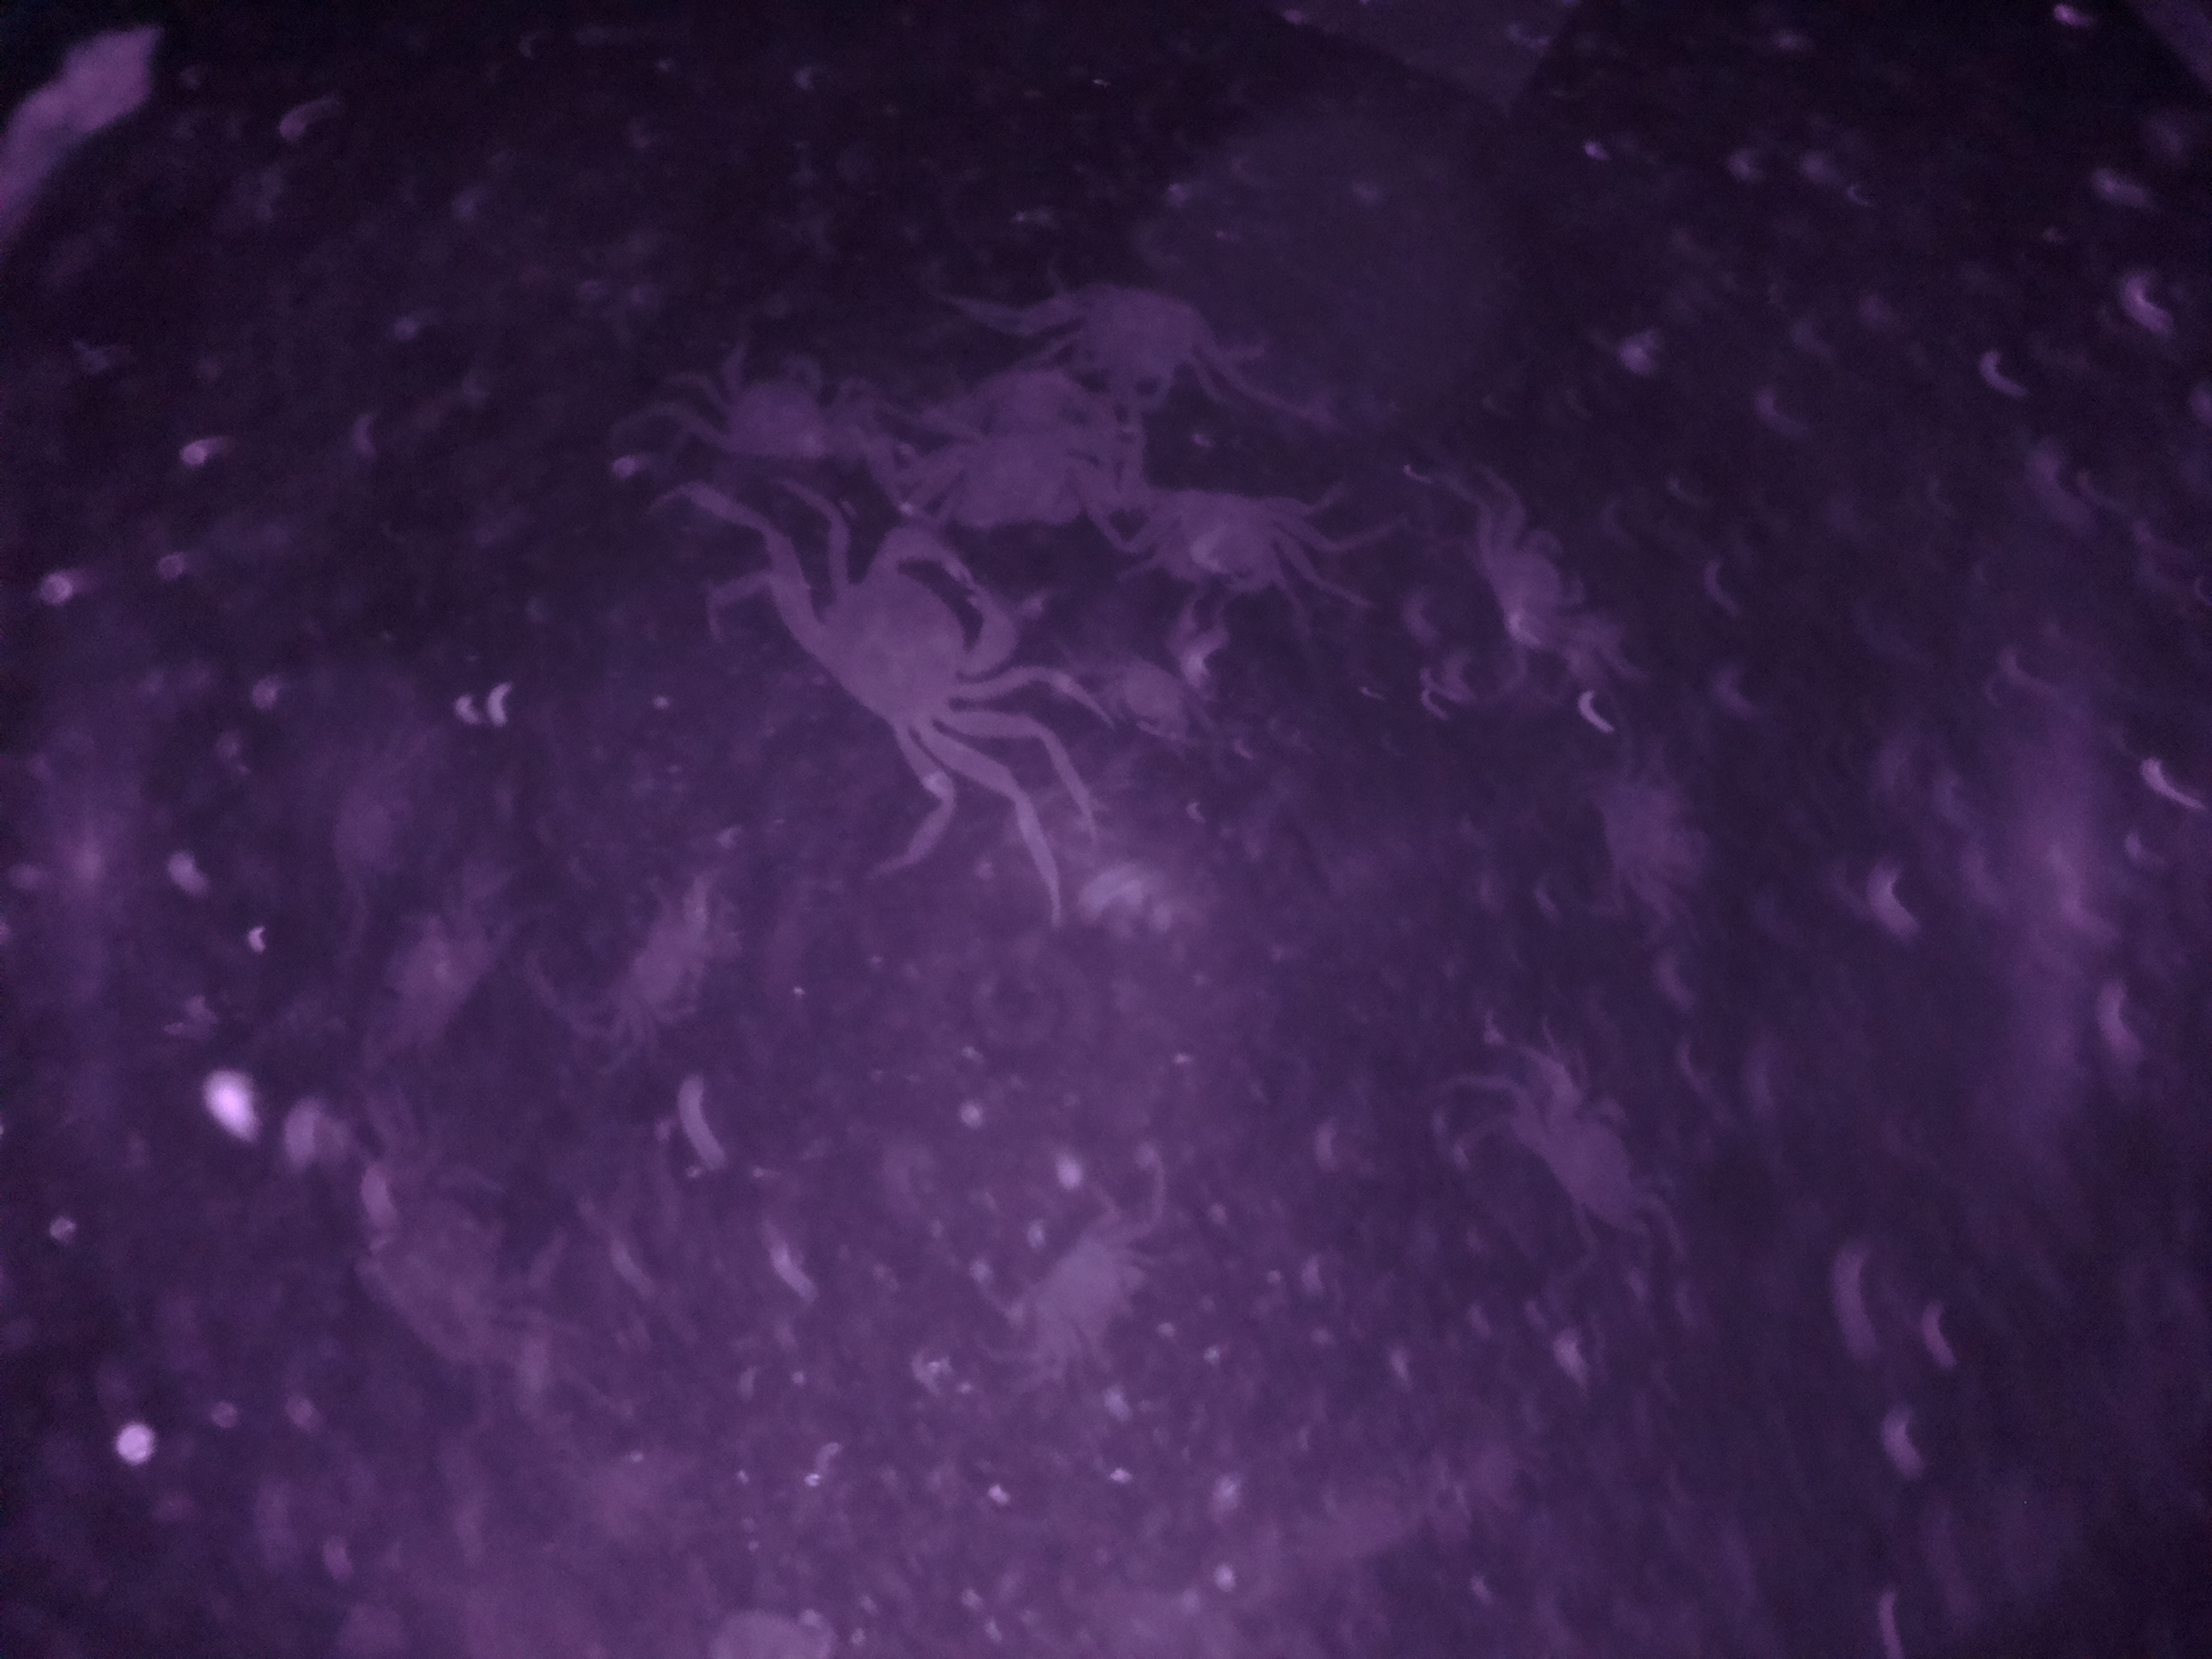Crab: (777, 518, 1024, 755), (1463, 500, 1604, 664)
